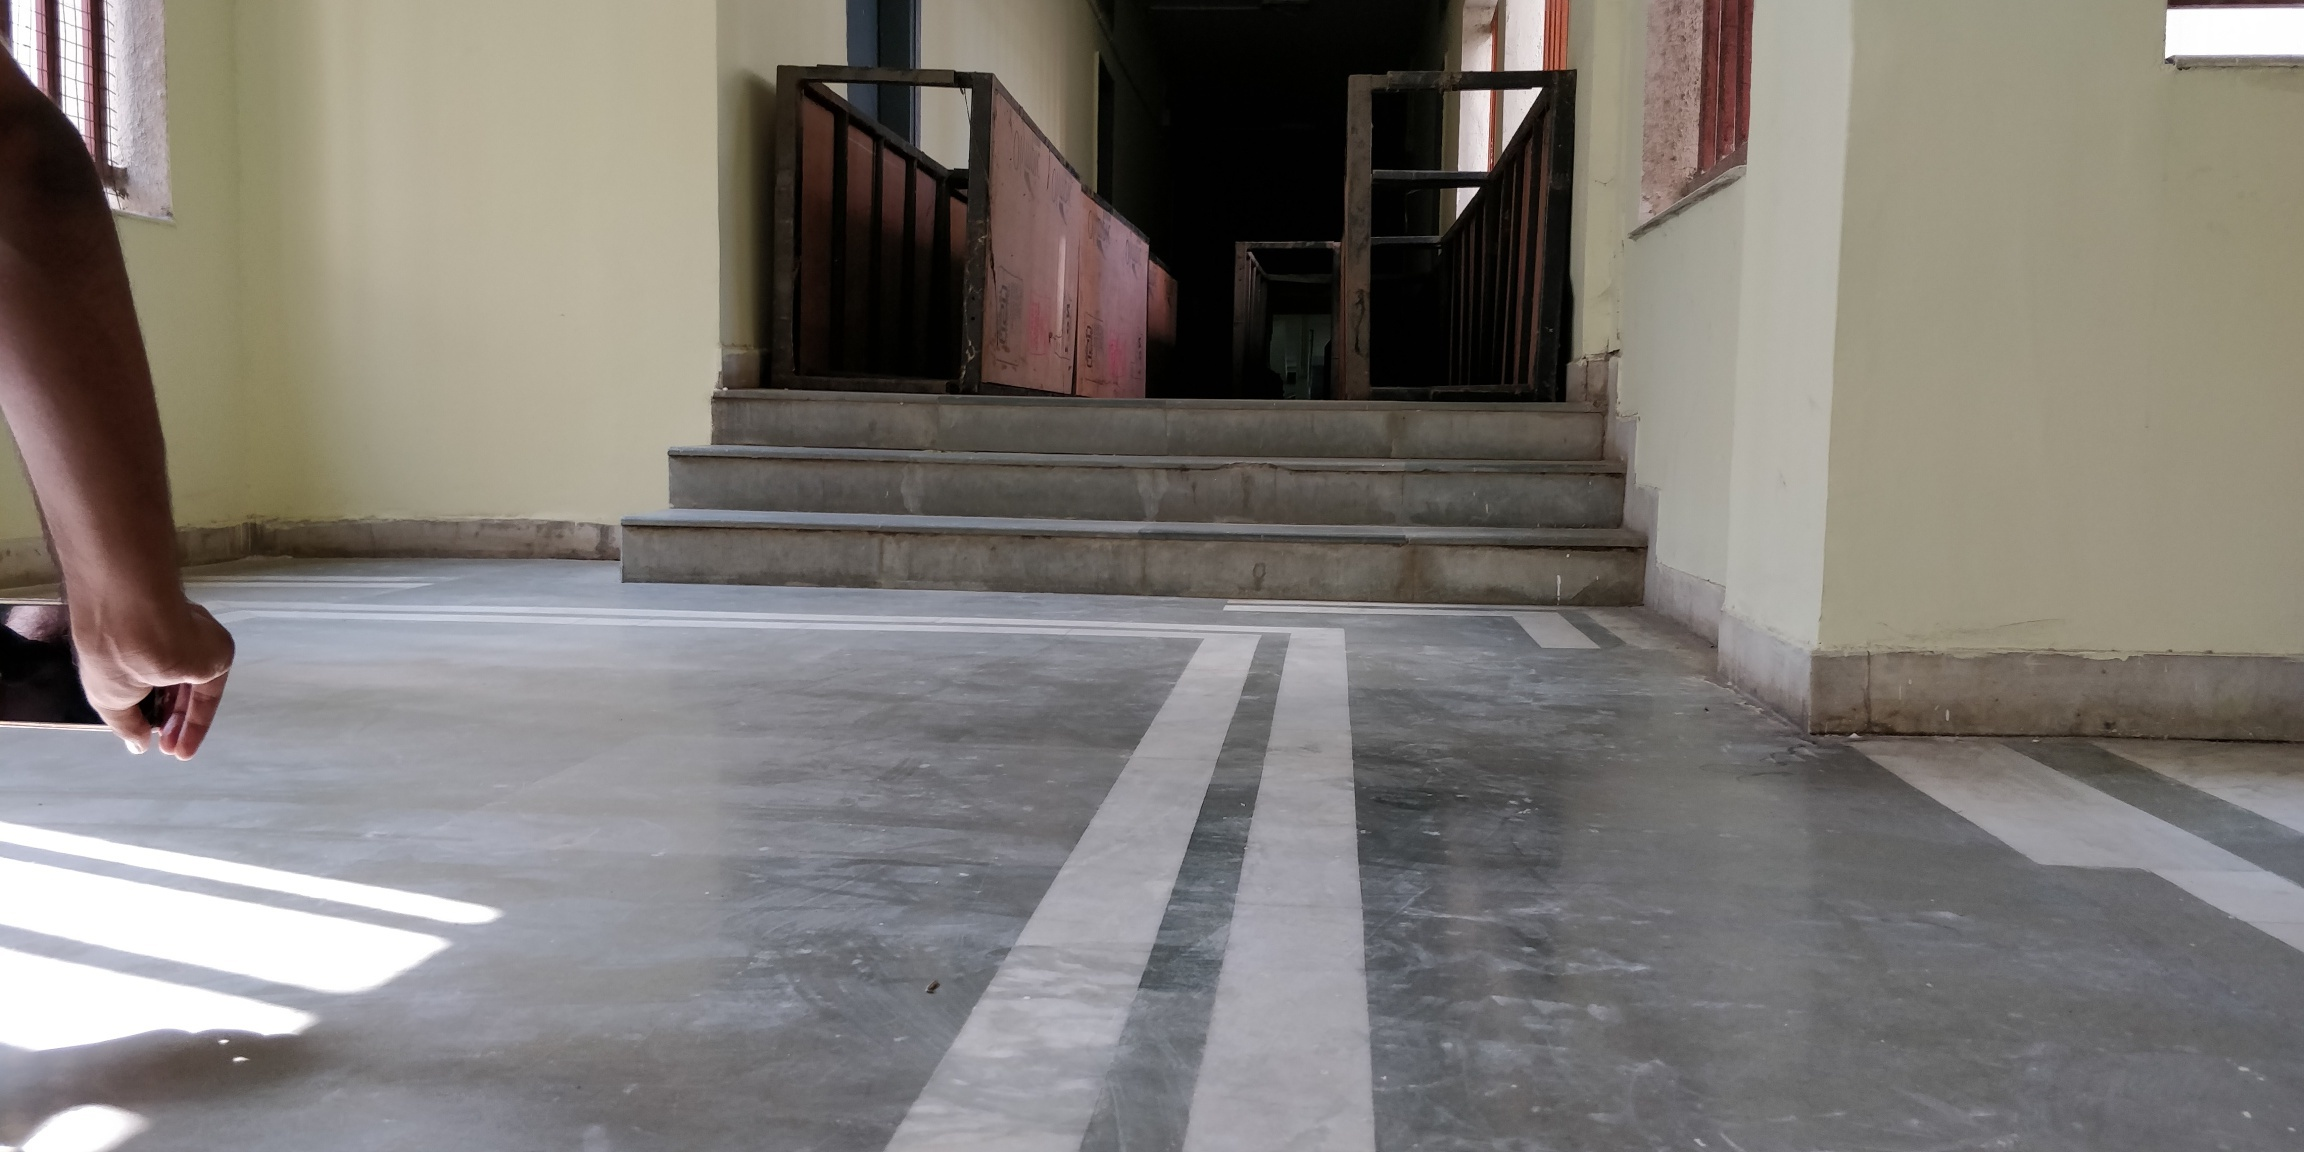stairs_up: (630, 381, 1641, 601)
